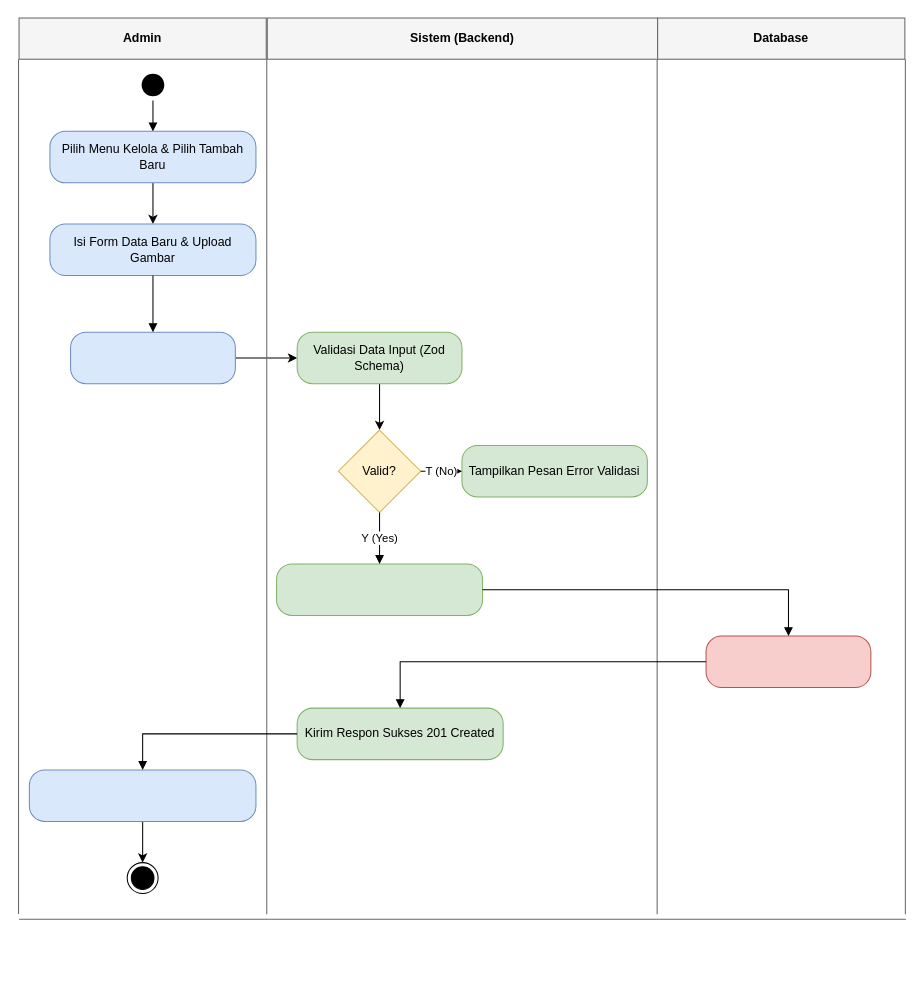
The diagram is 924 pixels wide and 1004 high, and some of its shapes have lost their labels. The shapes that lost their labels are listed below. From the top down, each one's centre as x and y in pixels, then its label:
At [152,357]: "Klik Simpan".
At [379,589]: "Mulai DB Transaction & Simpan Data".
At [788,661]: "prisma.[entity].create()".
At [142,795]: "Tampilkan Toast Sukses & Refresh Tabel".
